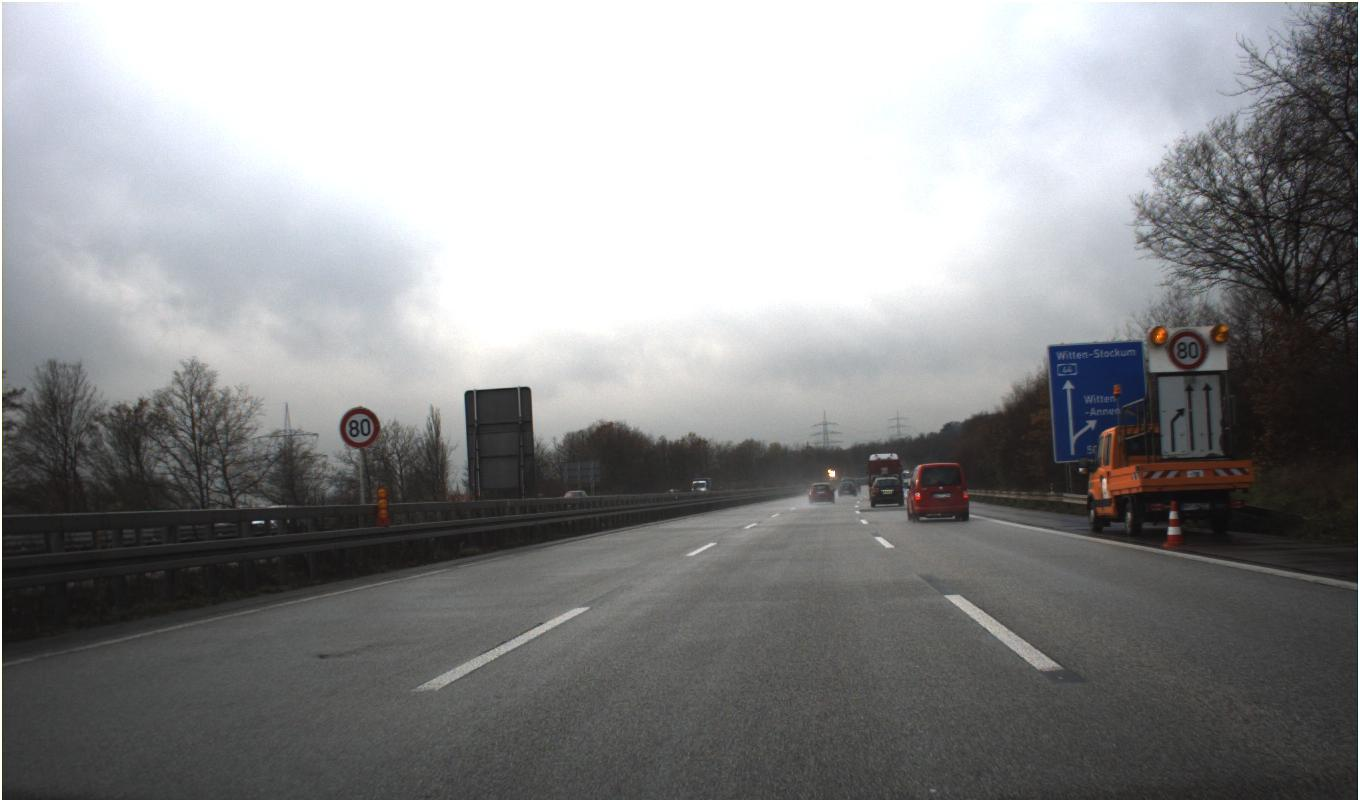prohibitory: (1166, 327, 1209, 370), (338, 406, 381, 449)
